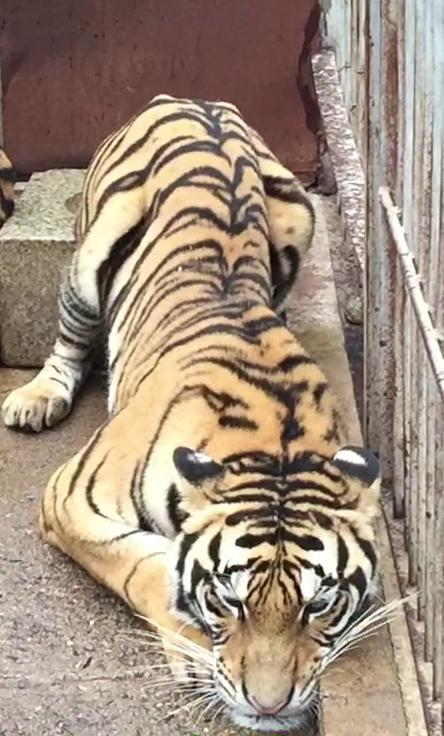tiger: (2, 94, 401, 731)
